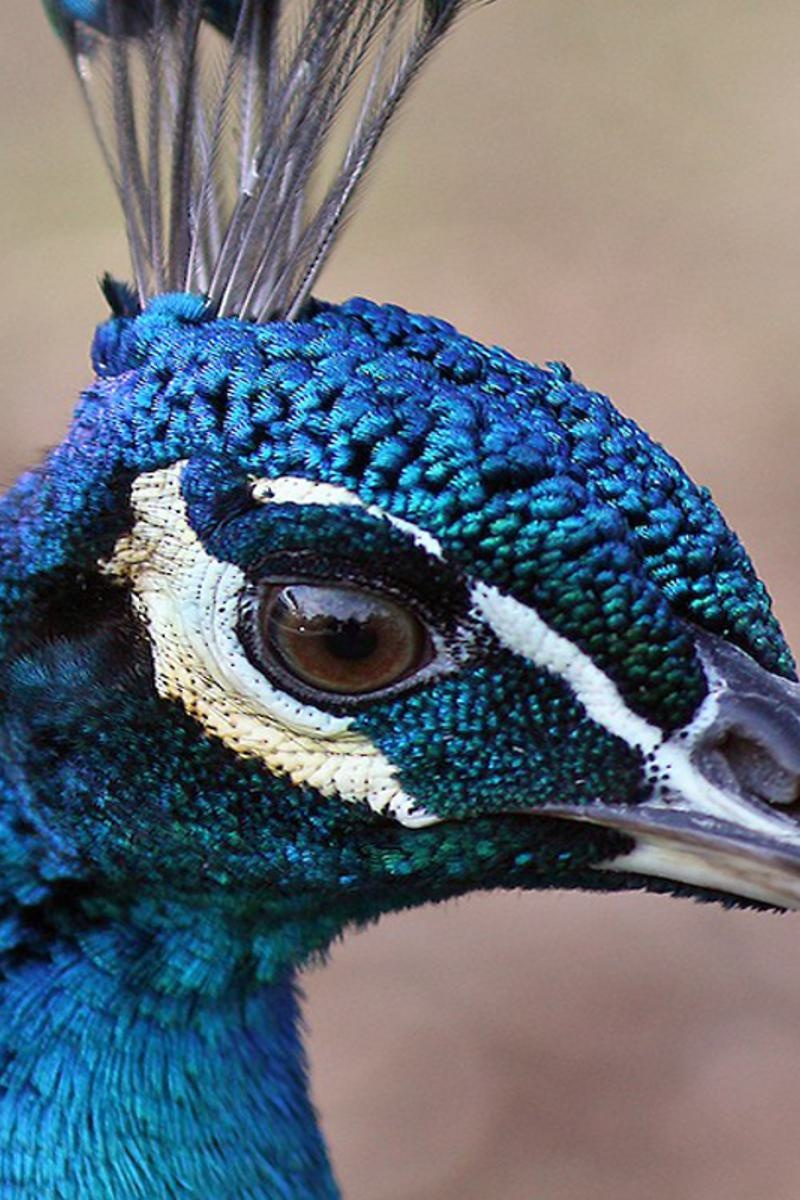peacock: (1, 159, 797, 1051)
